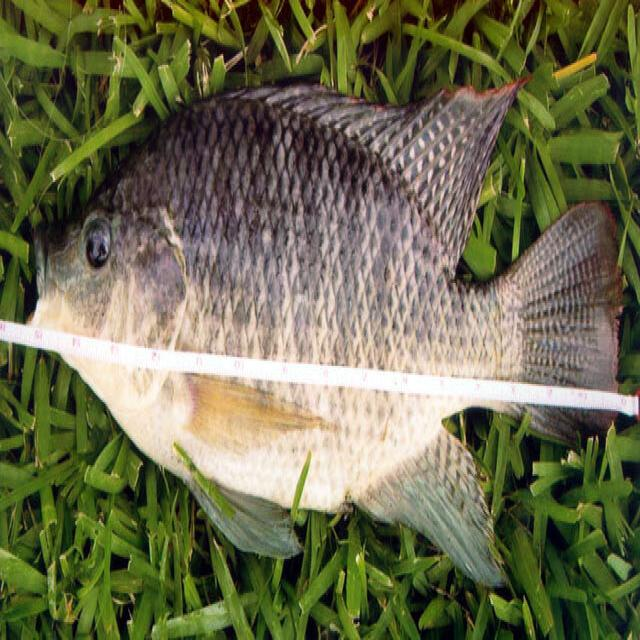ikan: (24, 66, 632, 590)
